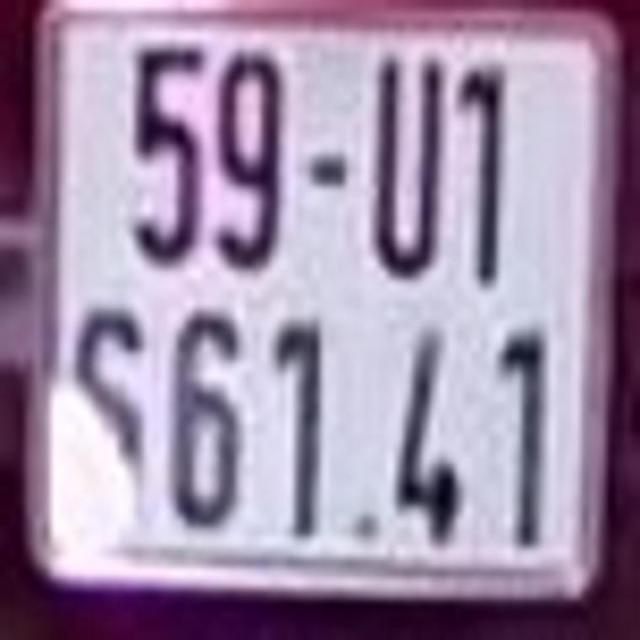1: (490, 316, 560, 556), (262, 307, 328, 543), (453, 56, 516, 289)
4: (390, 318, 464, 554)
5: (70, 293, 156, 542), (125, 39, 206, 268)
6: (167, 304, 241, 533)
9: (210, 45, 284, 282)
U: (366, 56, 449, 281)
